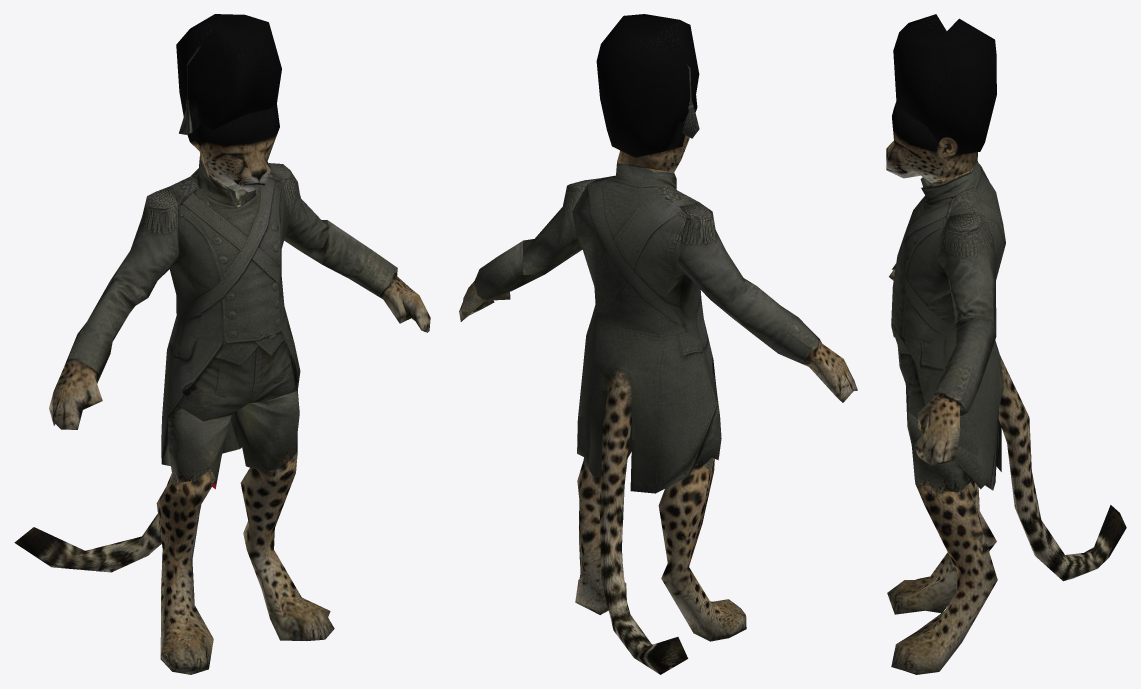
Rendered from infantry_spd_gibs.glb.
The picture shows the model from 3 angles, left to right: view 1: azimuth 30°, elevation 25°; view 2: azimuth 150°, elevation 25°; view 3: azimuth 270°, elevation 25°; orthographic projection. The views are drawn at different scales.
Visible parts, largest first — view 1: Body.001, Hat.001, Leg.R.001, Leg.L.001, Forarm.R.001, Head.001, Forarm.L.001, Arm.R.001, Upleg.L.001, Upleg.R.001, Arm.L.001; view 2: Body.001, Hat.001, Leg.R.001, Forarm.R.001, Arm.R.001, Leg.L.001, Arm.L.001, Forarm.L.001, Head.001, Upleg.R.001; view 3: Body.001, Hat.001, Leg.L.001, Forarm.L.001, Arm.L.001, Head.001, Leg.R.001, Upleg.L.001.
Part boxes in pixels (x1,y1,x2,y2): Body.001: [14, 155, 300, 572]; Hat.001: [176, 14, 281, 134]; Leg.R.001: [156, 469, 215, 674]; Leg.L.001: [240, 452, 334, 640]; Forarm.R.001: [49, 277, 147, 429]; Head.001: [187, 104, 279, 192]; Forarm.L.001: [322, 220, 430, 332]; Arm.R.001: [111, 186, 178, 297]; Upleg.L.001: [234, 390, 299, 471]; Upleg.R.001: [168, 408, 231, 489]; Arm.L.001: [268, 163, 328, 264]; Body.001: [572, 162, 717, 674]; Hat.001: [596, 14, 699, 157]; Leg.R.001: [658, 458, 746, 641]; Forarm.R.001: [710, 278, 857, 402]; Arm.R.001: [676, 202, 745, 302]; Leg.L.001: [575, 459, 626, 614]; Arm.L.001: [522, 178, 598, 274]; Forarm.L.001: [459, 241, 544, 321]; Head.001: [617, 108, 696, 172]; Upleg.R.001: [693, 388, 721, 469]; Body.001: [891, 161, 1126, 581]; Hat.001: [893, 14, 996, 154]; Leg.L.001: [891, 479, 997, 674]; Forarm.L.001: [913, 315, 996, 465]; Arm.L.001: [937, 212, 996, 334]; Head.001: [886, 102, 977, 182]; Leg.R.001: [887, 482, 996, 614]; Upleg.L.001: [908, 412, 974, 492].
Size of the model in its own units: 0.646 by 0.9825 by 0.3484.
2 materials, 1 textured.
